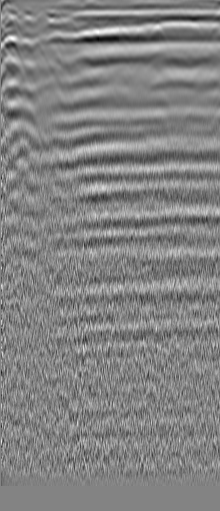오수: (27, 34, 47, 54)
우수: (173, 27, 193, 47)
